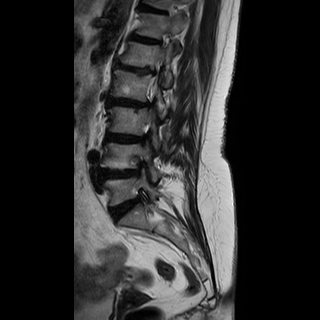LFS3: (129, 149, 156, 185)
